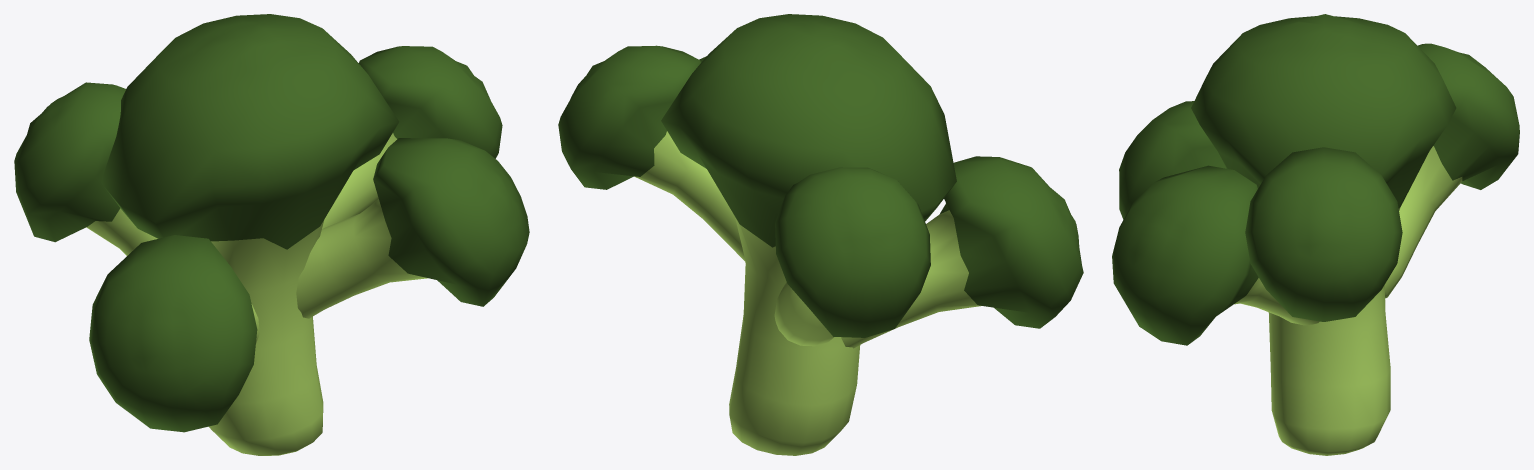
The model's file is Brokoli.fbx.
3 renders of one model, left to right at view 1: azimuth 30°, elevation 25°; view 2: azimuth 150°, elevation 25°; view 3: azimuth 270°, elevation 25°, orthographic.
Visible parts, largest first — view 1: Cube.004; view 2: Cube.004; view 3: Cube.004.
Part boxes in pixels (x1,y1,x2,y2): Cube.004: [14, 14, 529, 455]; Cube.004: [558, 14, 1083, 455]; Cube.004: [1112, 14, 1519, 455].
Bounding box in the file's own units: 410 × 366 × 328.
